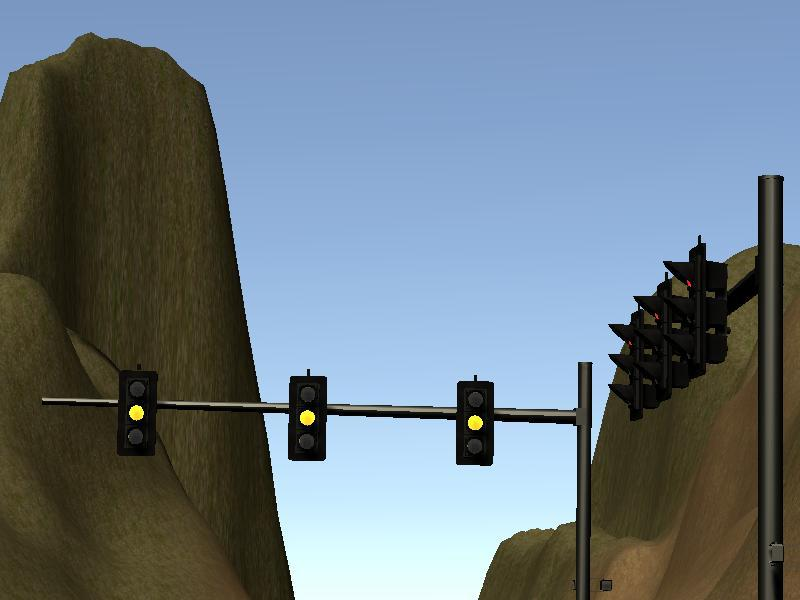Yellow: (119, 370, 157, 454), (289, 376, 326, 461), (456, 381, 492, 465)
